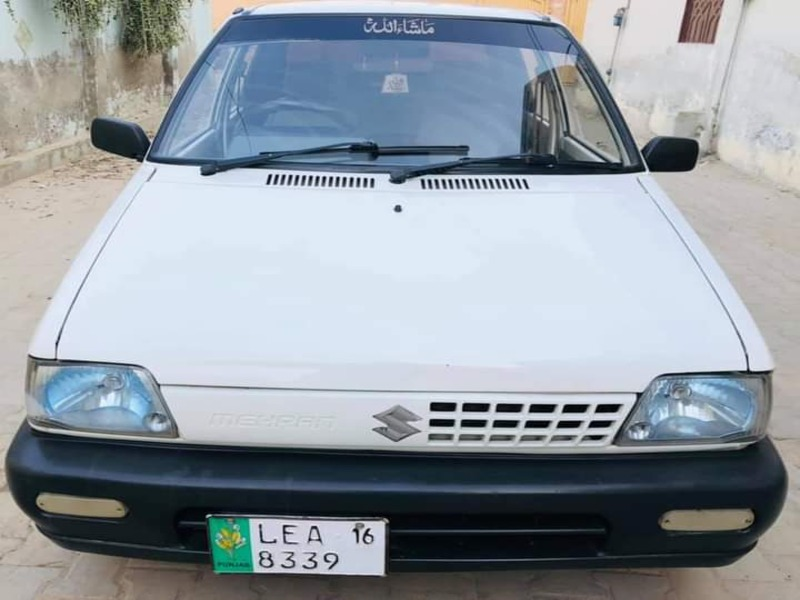License Plate: (202, 513, 395, 582)
